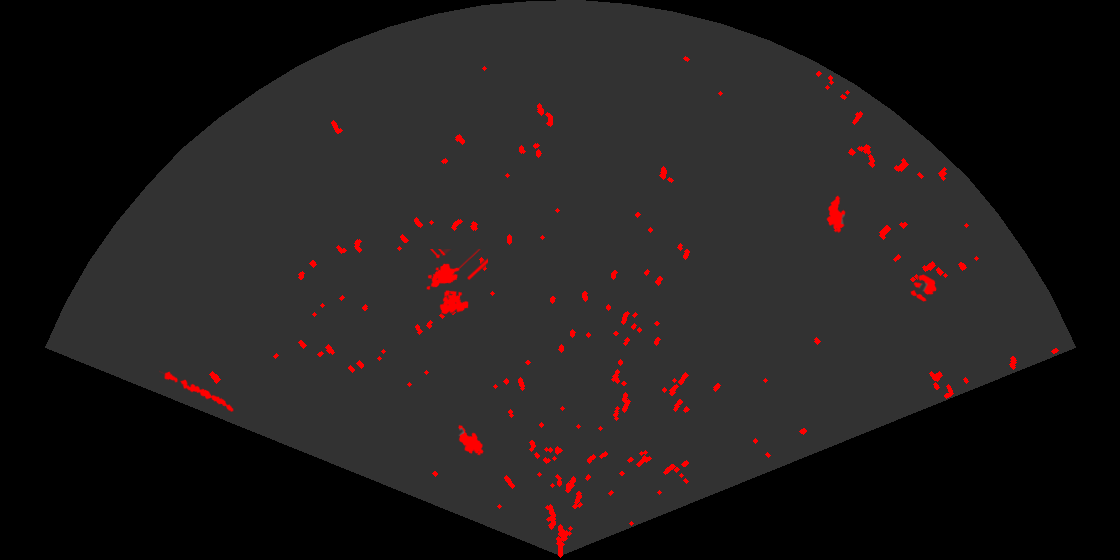AUV: (457, 423, 485, 457), (825, 194, 847, 235)
ball: (909, 273, 938, 303)
cage: (425, 249, 488, 316)
chain: (159, 369, 235, 413)
